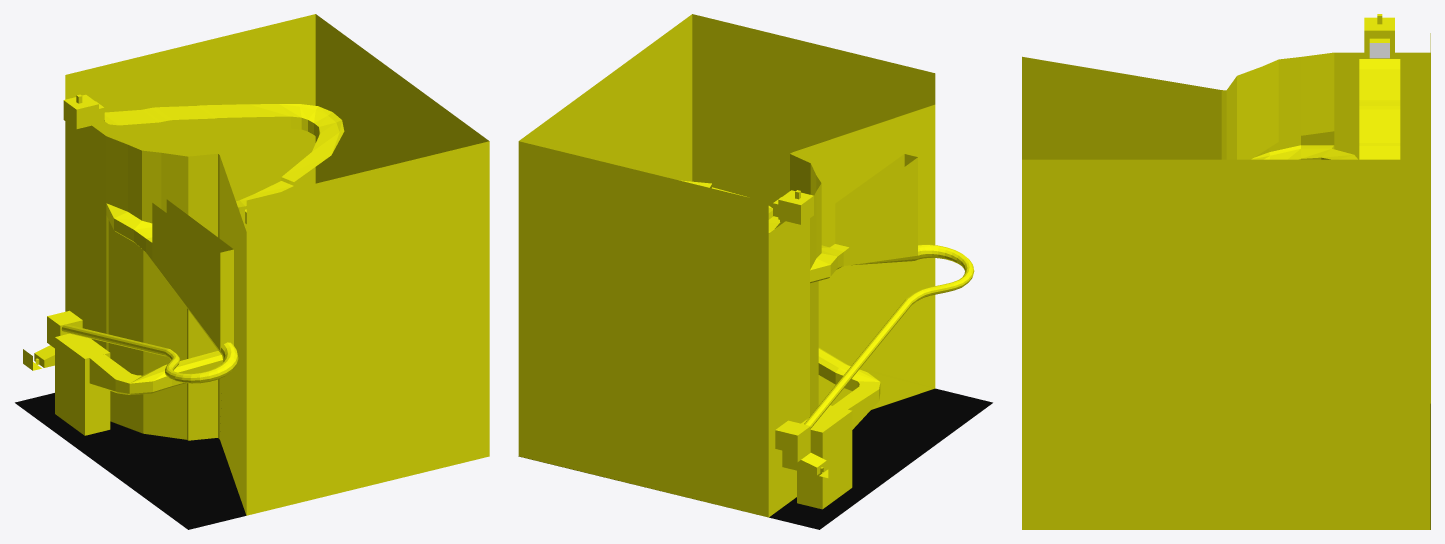
Rendered from ccm_segment7.0x20880.collision.obj.
3 views of the same model, side by side, from view 1: azimuth 30°, elevation 25°; view 2: azimuth 150°, elevation 25°; view 3: azimuth 270°, elevation 25° (orthographic). The views are drawn at different scales.
Visible parts, largest first — view 1: ccm_segment7_20880_normal, ccm_segment7_20880_deathfloor; view 2: ccm_segment7_20880_normal, ccm_segment7_20880_deathfloor; view 3: ccm_segment7_20880_normal.
Part boxes in pixels (bbox=[...]): ccm_segment7_20880_normal: bbox=[23, 14, 489, 515]; ccm_segment7_20880_deathfloor: bbox=[15, 393, 246, 529]; ccm_segment7_20880_normal: bbox=[518, 14, 974, 517]; ccm_segment7_20880_deathfloor: bbox=[518, 388, 992, 529]; ccm_segment7_20880_normal: bbox=[1022, 14, 1430, 529].
Size of the model in its own units: 16 by 16 by 16.
